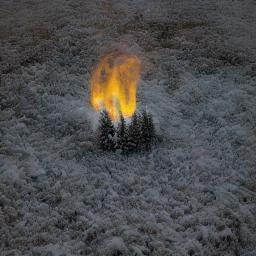Small fire: (88, 51, 147, 124)
